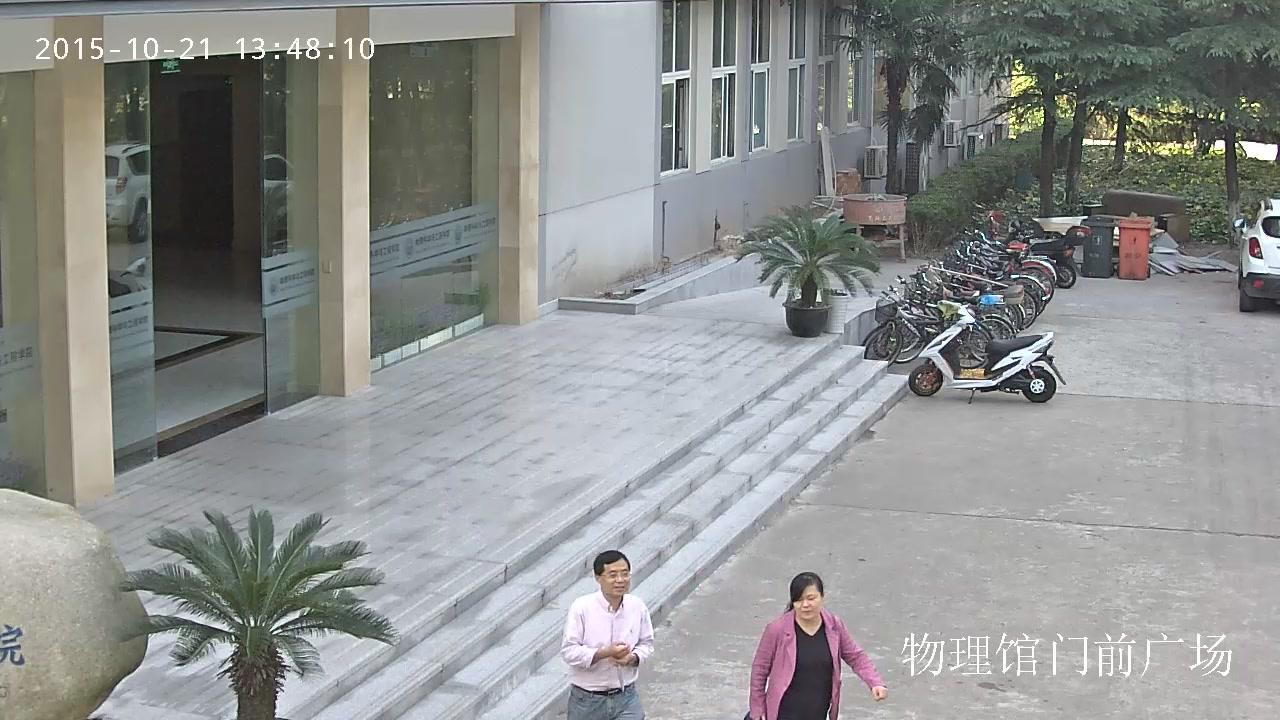person: (742, 571, 889, 720), (560, 550, 656, 720)
